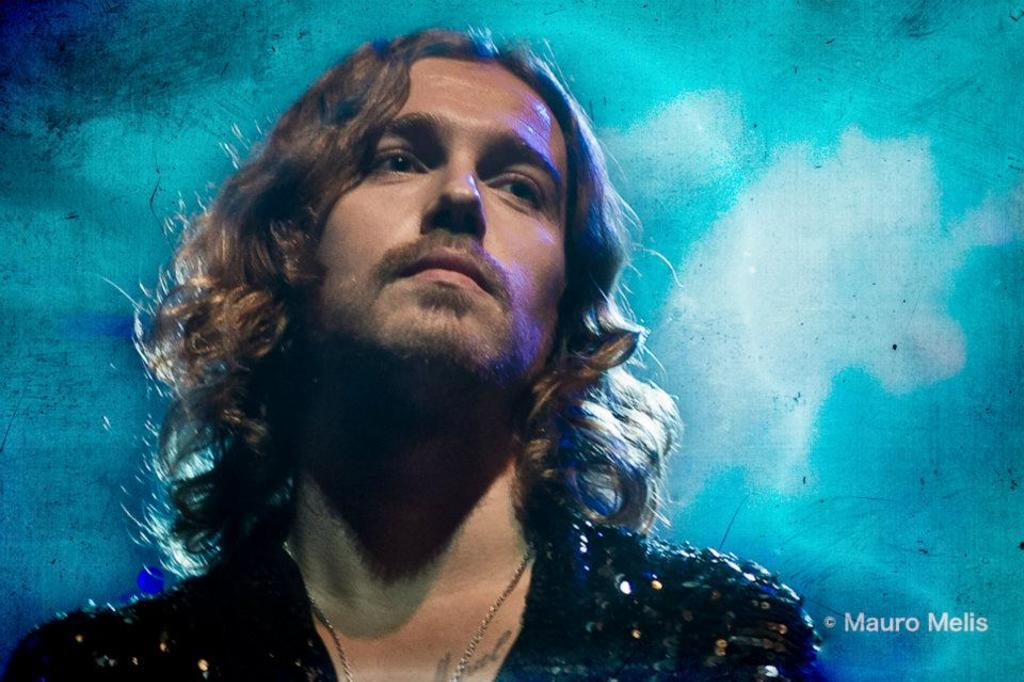face: (319, 55, 569, 363)
